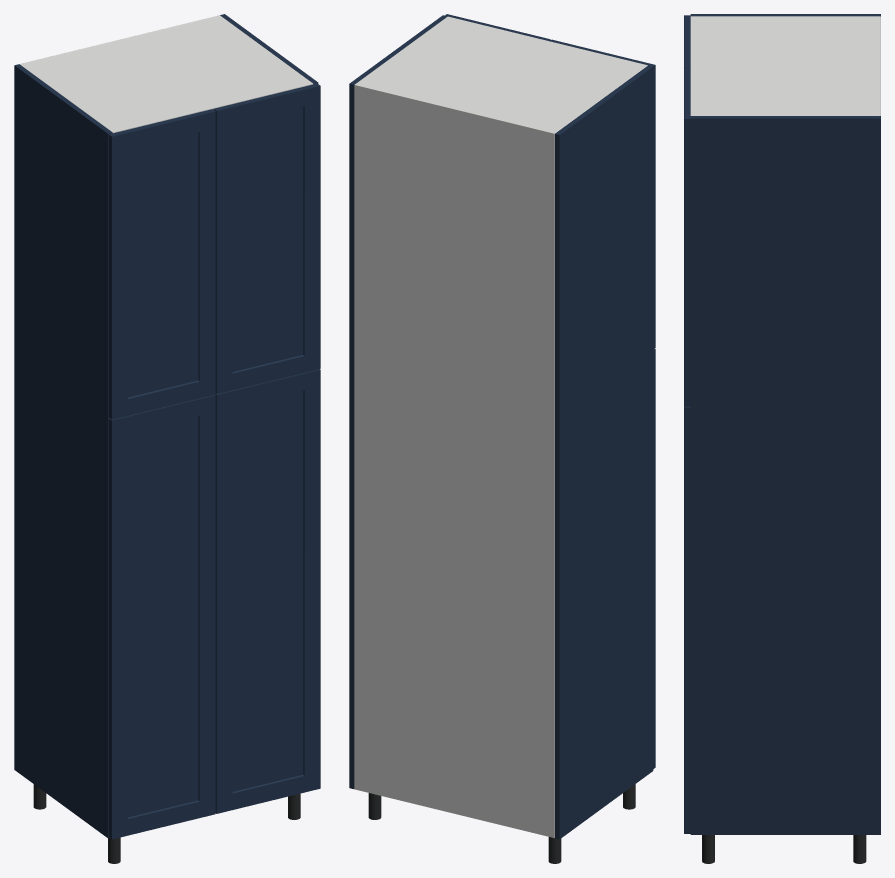
File: oppein-pb-bss-pc3096.glb
3 views of the same model, side by side, from view 1: azimuth 30°, elevation 25°; view 2: azimuth 150°, elevation 25°; view 3: azimuth 270°, elevation 25° (orthographic).
Parts seen in each view (by area): view 1: Cabinet side, Door, Door.001, Door.002, Door.003, Cabinet top; view 2: Cabinet back, Cabinet side, Cabinet top, Cabinet side.001, Door, Door.002; view 3: Cabinet side.001, Cabinet top, Door.001, Door.003, Cabinet side, Cabinet back, Adjustable foot.002.
Boxes of the visible parts, box(x1,y1,x2,y2) form: Cabinet side: box(14, 64, 112, 837); Door: box(108, 394, 215, 839); Door.001: box(215, 369, 320, 813); Door.002: box(108, 109, 215, 419); Door.003: box(213, 83, 320, 393); Cabinet top: box(21, 16, 313, 133); Cabinet back: box(354, 83, 556, 837); Cabinet side: box(555, 65, 653, 839); Cabinet top: box(356, 16, 647, 137); Cabinet side.001: box(349, 15, 447, 788); Door: box(653, 348, 655, 768); Door.002: box(549, 39, 655, 348); Cabinet side.001: box(690, 116, 880, 834); Cabinet top: box(690, 16, 876, 115); Door.001: box(684, 406, 690, 833); Door.003: box(684, 67, 690, 406); Cabinet side: box(690, 14, 880, 16); Cabinet back: box(877, 16, 880, 115); Adjustable foot.002: box(853, 835, 866, 863).
Size of the model in its own units: 0.762 by 2.55 by 0.6064.
